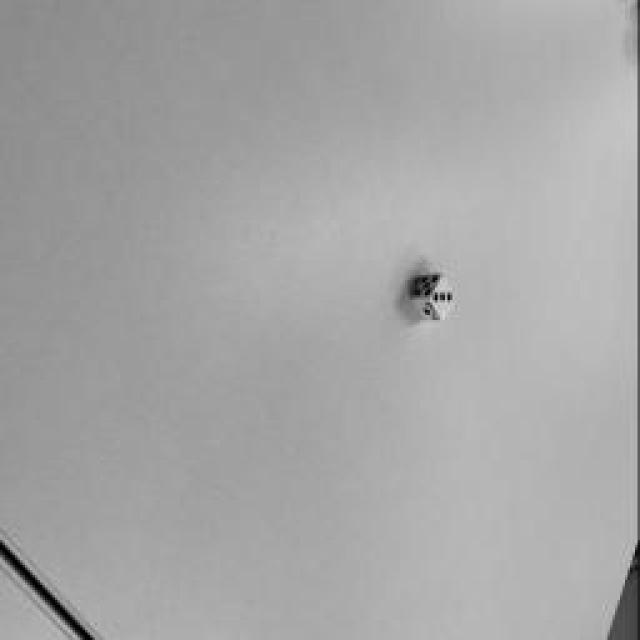dice_3: (431, 276, 454, 319)
